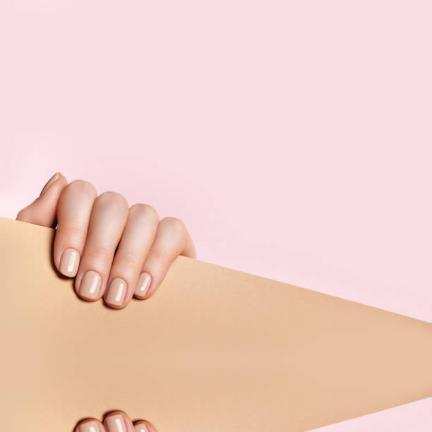Nail: (79, 271, 102, 299), (105, 278, 127, 306), (60, 248, 80, 277), (134, 272, 152, 296), (40, 172, 58, 196), (105, 414, 127, 432), (79, 421, 100, 432), (134, 424, 149, 432)
